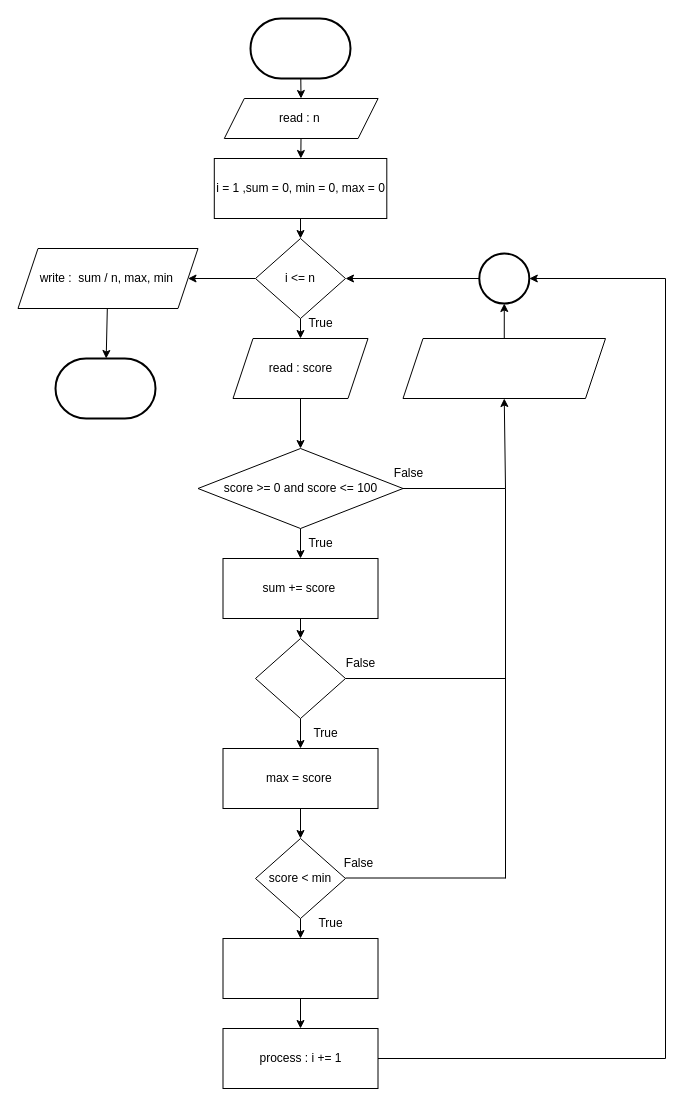
The diagram is 691 pixels wide and 1106 high, and some of its shapes have lost their labels. Here are the shapes that lost their labels. From the top down, the centre of each, then its label:
point (300, 48): Start
point (105, 388): End
point (504, 368): write: "Invalid score (0 - 100)"
point (300, 678): score > max
point (300, 968): min = score
